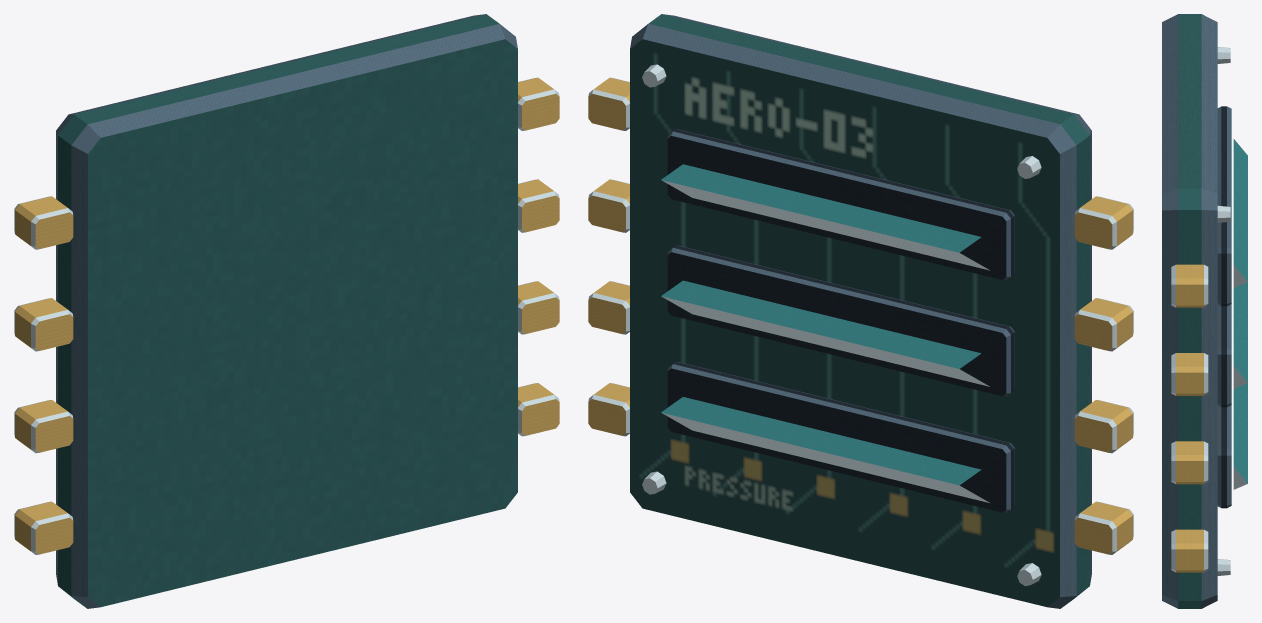
The model's file is aero_pressure_chip.obj.
3 views of the same model, side by side, from view 1: azimuth 30°, elevation 25°; view 2: azimuth 150°, elevation 25°; view 3: azimuth 270°, elevation 25° (orthographic). The views are drawn at different scales.
Visible parts, largest first — view 1: aero_pressure_chip; view 2: aero_pressure_chip; view 3: aero_pressure_chip.
Boxes of the visible parts, x1,y1,x2,y2 form: aero_pressure_chip: [14, 14, 559, 608]; aero_pressure_chip: [588, 14, 1133, 608]; aero_pressure_chip: [1162, 14, 1247, 608].
Bounding box in the file's own units: 0.7125 × 0.625 × 0.1156.
